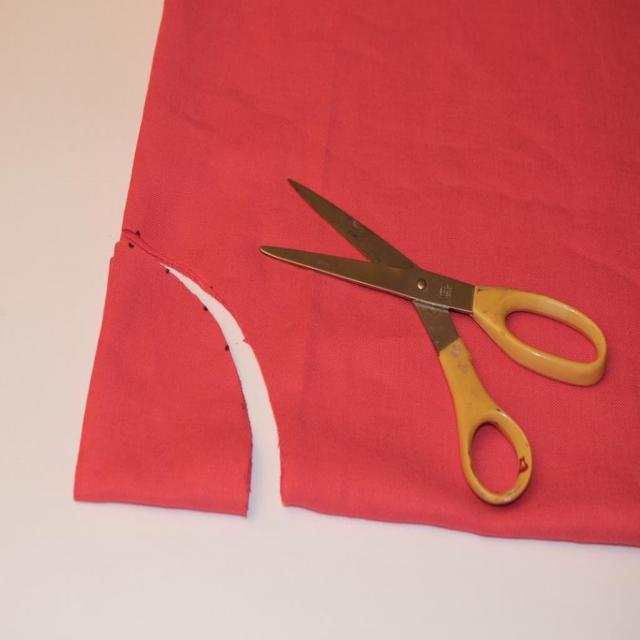scissor: (258, 180, 610, 505)
